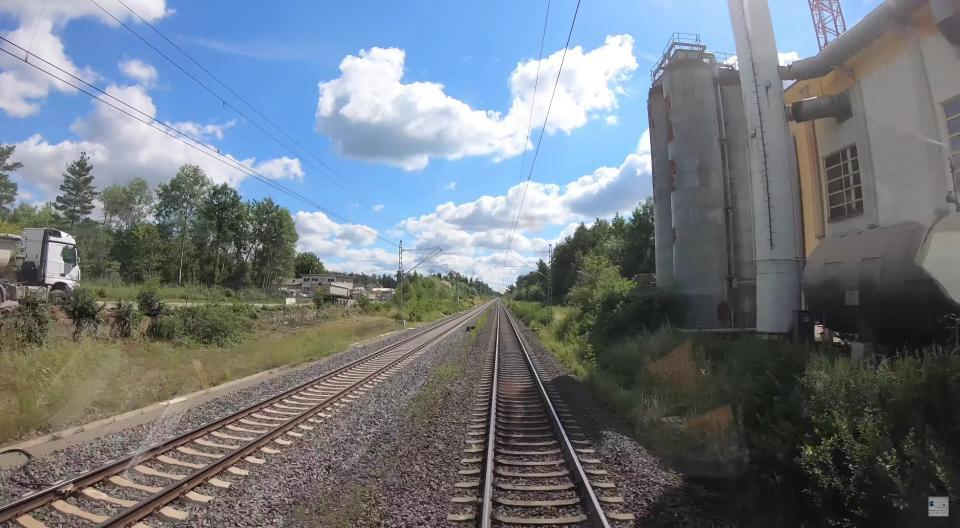Plant: (538, 315, 748, 478), (424, 362, 460, 392), (474, 308, 490, 334), (436, 396, 442, 403)
